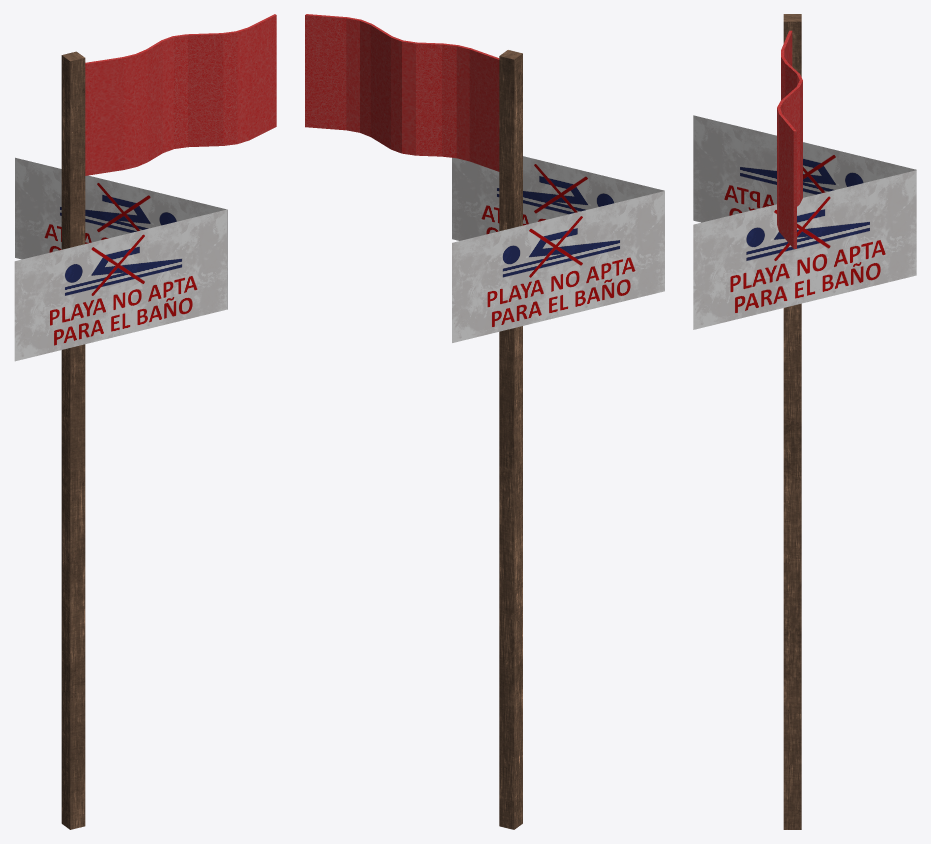
Rendered from bandera.fbx.
The picture shows the model from 3 angles, left to right: view 1: azimuth 30°, elevation 25°; view 2: azimuth 150°, elevation 25°; view 3: azimuth 270°, elevation 25°; orthographic projection. The views are drawn at different scales.
Parts seen in each view (by area): view 1: Bandera; view 2: Bandera; view 3: Bandera.
Boxes of the visible parts, <box> form: Bandera: <box>14,14,276,829</box>; Bandera: <box>305,14,664,829</box>; Bandera: <box>693,14,916,829</box>.
Bounding box in the file's own units: 778 × 1843 × 462.
